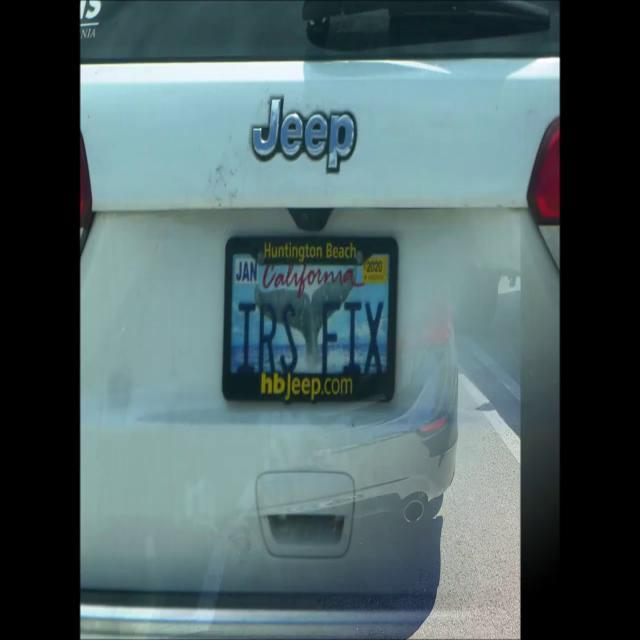LicensePlate: (224, 233, 395, 402)
